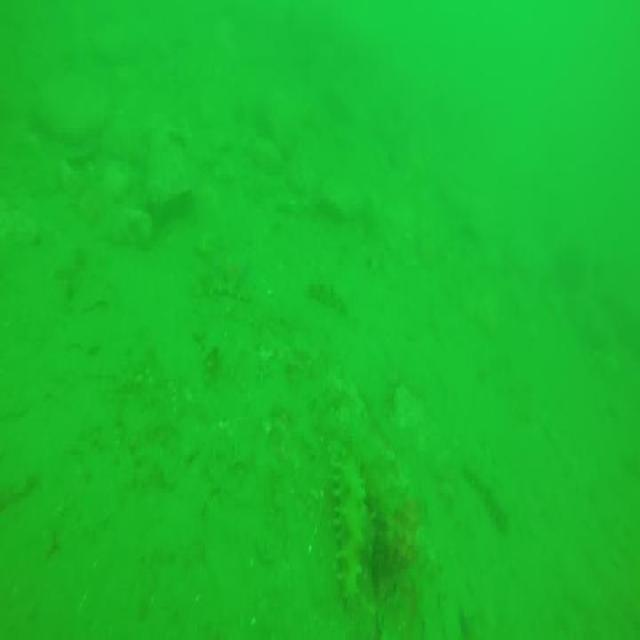holothurian: (329, 455, 371, 613), (462, 458, 510, 526), (306, 275, 346, 313), (192, 280, 251, 305)
